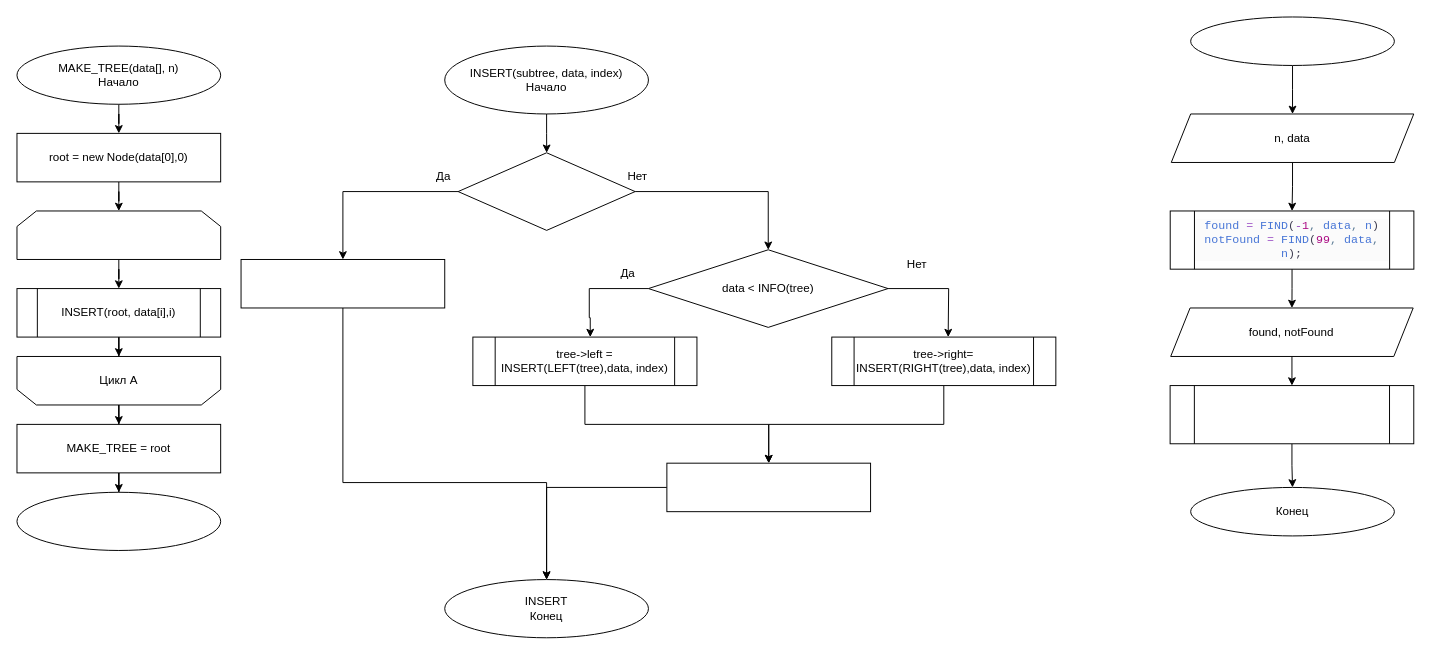
Some shapes in this 1432 by 655 pixel diagram are drawn without their labels. The centre of each missing label's shape, as x and y in pixels:
INSERT = new Node(data, index): the point at 342,283
INSERT = tree: the point at 768,487
MAKE_TREE() Конец: the point at 118,520
t ree = MAKE_TREE ( data , n ) LTR ( tree ): the point at 1291,414
tree == nullptr: the point at 546,191
Начало: the point at 1292,40
Цикл А от 1 до n - 1: the point at 118,234
